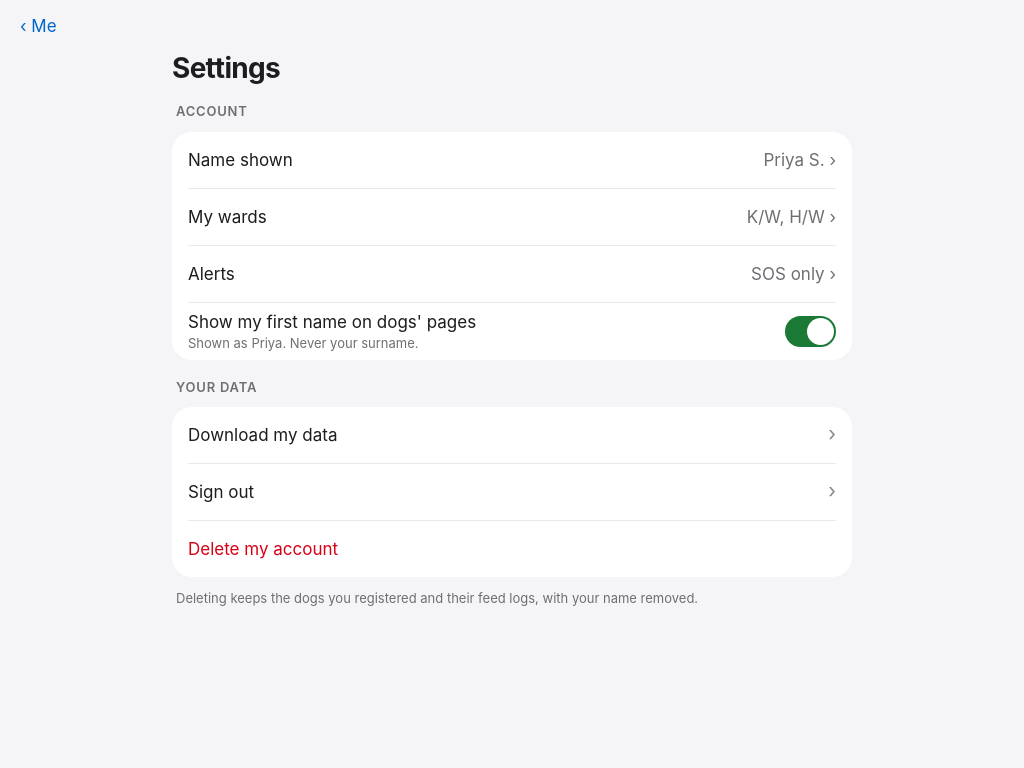
Test: SettingsPage › edits the name in a sheet and PATCHes displayName
The width and height of the screenshot is (1024, 768).
Click the button "Name shown Priya S. ›": click(240, 160) [188,132,836,188]
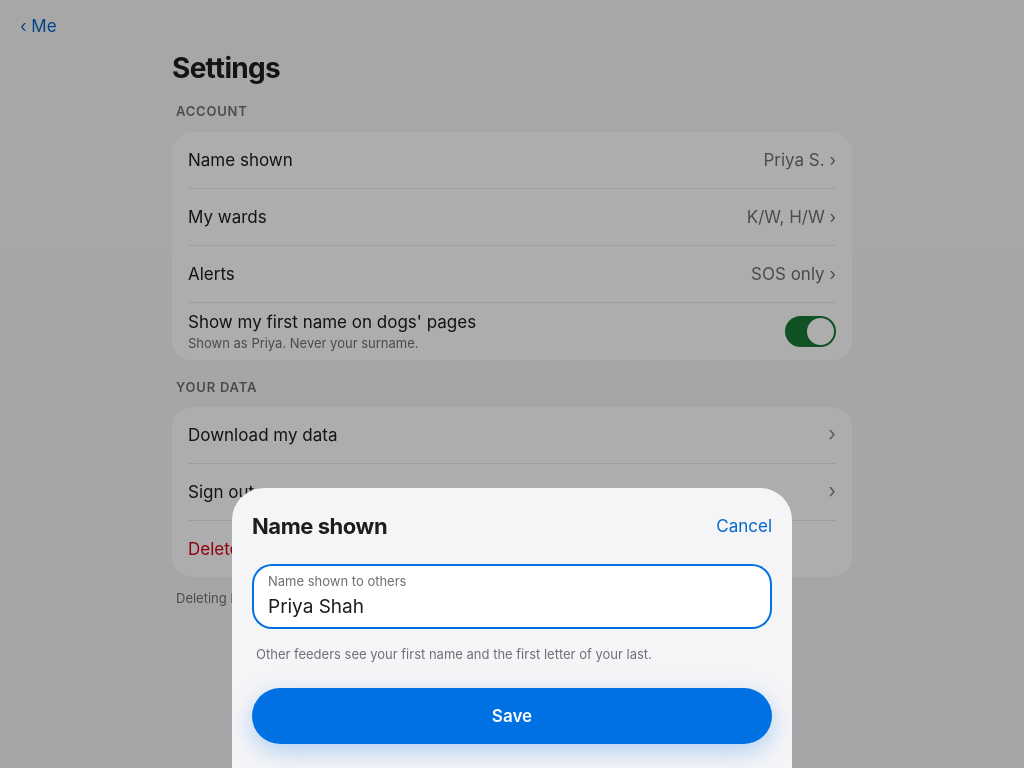
Replace the text in the field labelled "Name shown to others" with " Priya Kumar ": (512, 607) [268,593,756,621]
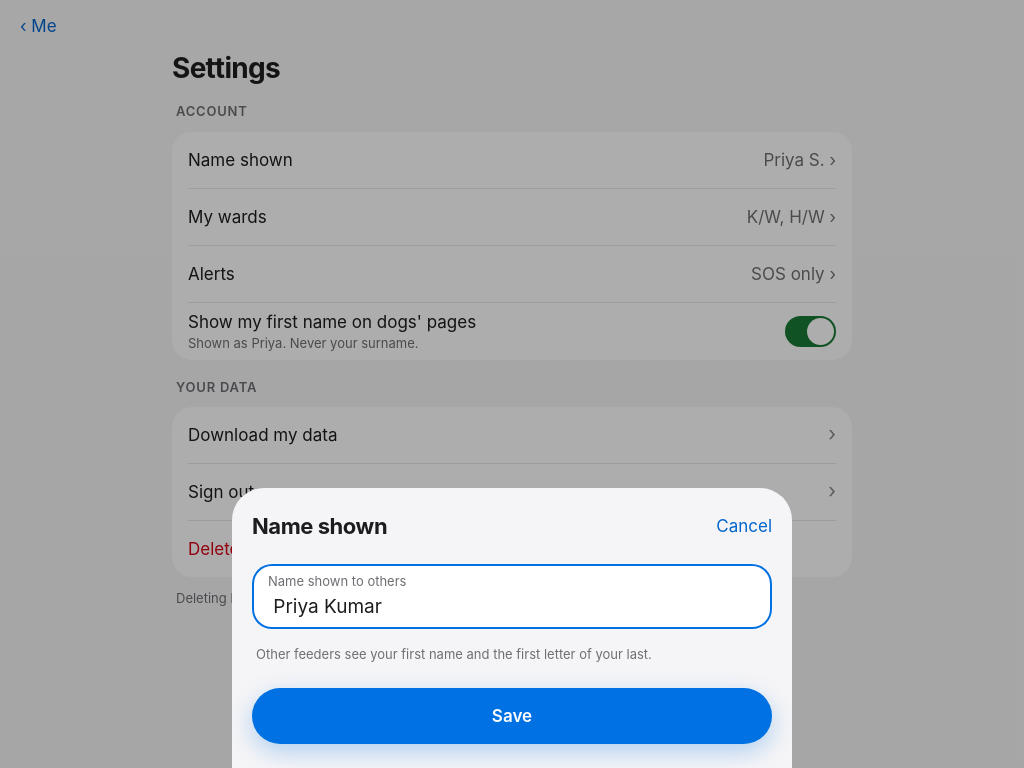
Click the button "Save": click(512, 716) [252,688,772,744]
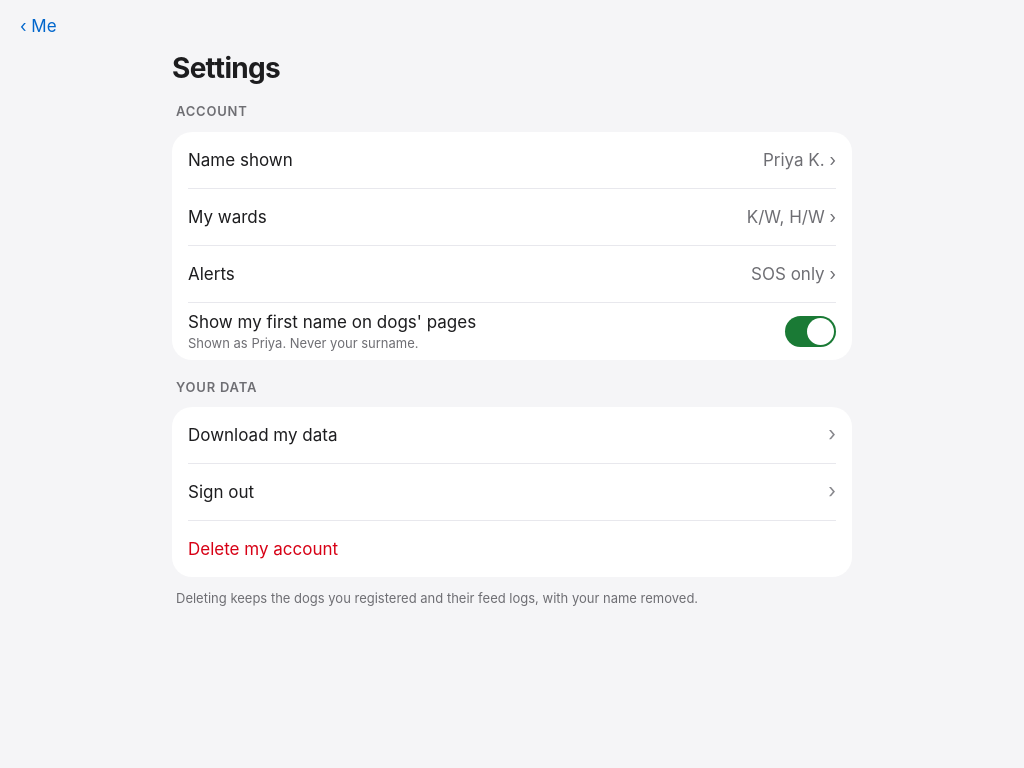
Now the button "Name shown Priya K. ›" is shown, box [188,132,836,188]
Now the dialog is gone
